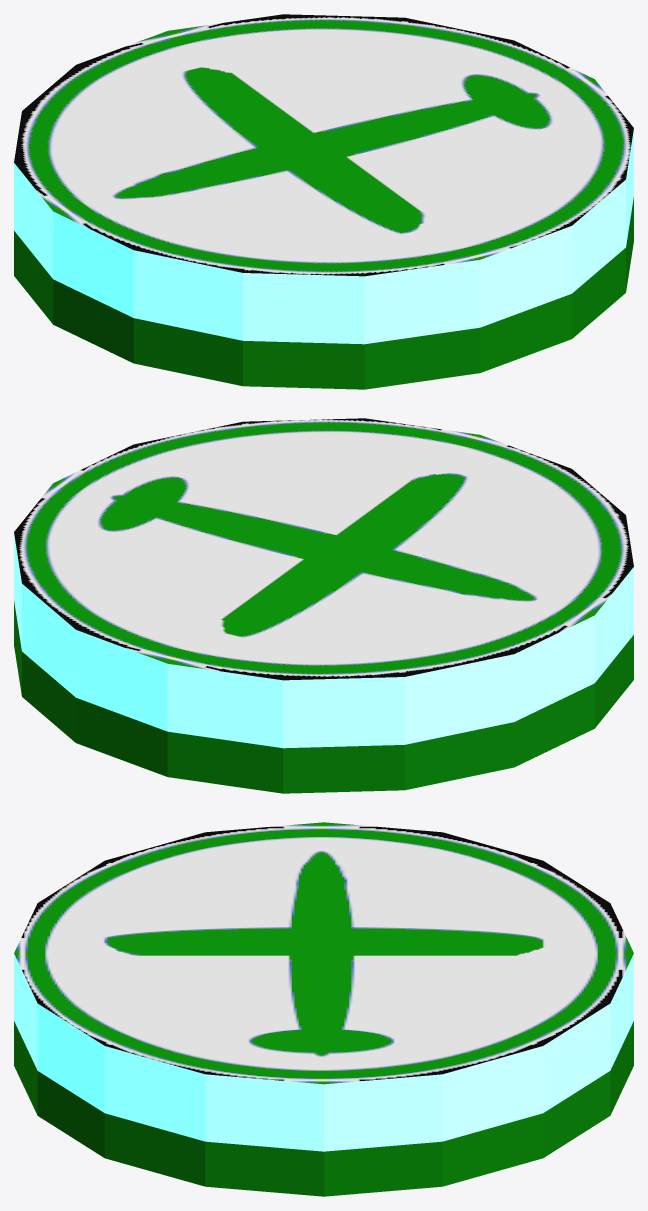
The model's file is piece_green.glb.
3 views of the same model, one above another, from view 1: azimuth 30°, elevation 25°; view 2: azimuth 150°, elevation 25°; view 3: azimuth 270°, elevation 25° (orthographic).
Visible parts, largest first — view 1: Cylinder; view 2: Cylinder; view 3: Cylinder.
Part boxes in pixels (box(x1,y1,x2,y2)): Cylinder: box(14, 14, 633, 389); Cylinder: box(14, 418, 633, 793); Cylinder: box(14, 822, 633, 1196).
Bounding box in the file's own units: 0.5 × 0.1 × 0.5.
2 materials, 1 textured.
